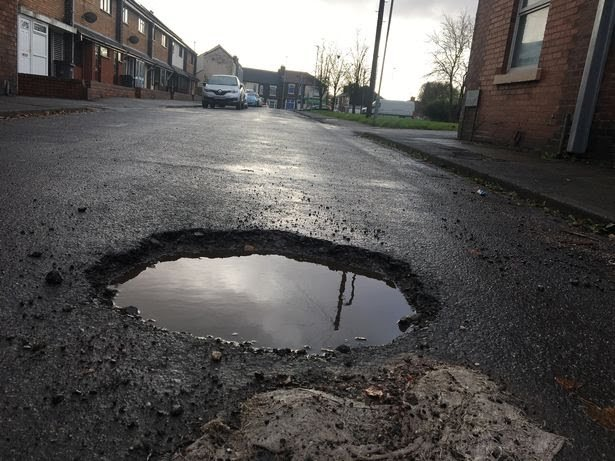pothole: (80, 221, 445, 357)
